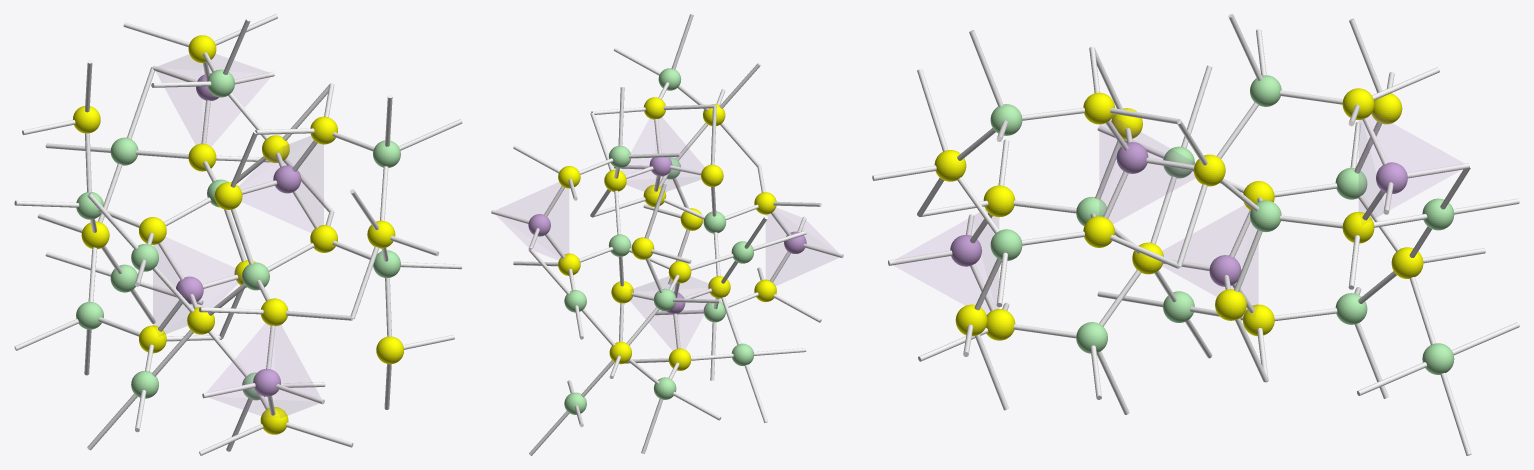
Rendered from structure_mpstyle.glb.
3 views of the same model, side by side, from view 1: azimuth 30°, elevation 25°; view 2: azimuth 150°, elevation 25°; view 3: azimuth 270°, elevation 25° (orthographic). The views are drawn at different scales.
Visible parts, largest first — view 1: world; view 2: world; view 3: world.
Boxes of the visible parts, left/top/right/bottom form: world: left=14, top=14, right=462, bottom=455; world: left=491, top=14, right=843, bottom=455; world: left=872, top=14, right=1519, bottom=455.
Size of the model in its own units: 9.55 by 12.1 by 16.27.
